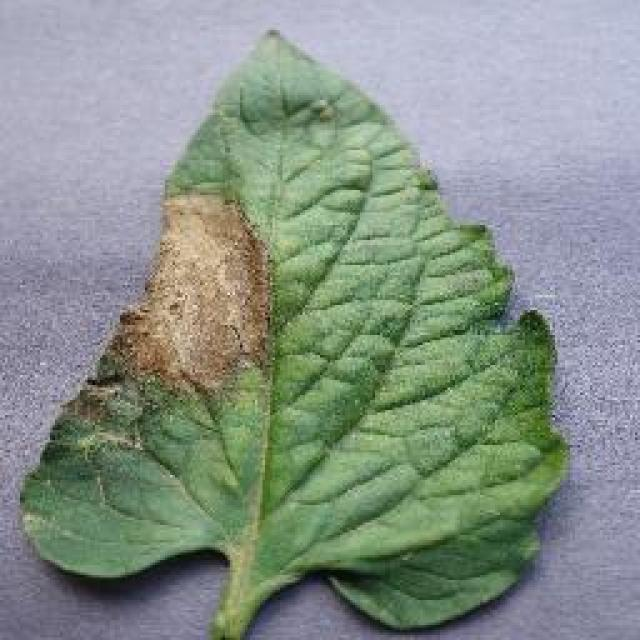Tomato Late Blight: (94, 182, 264, 422)
